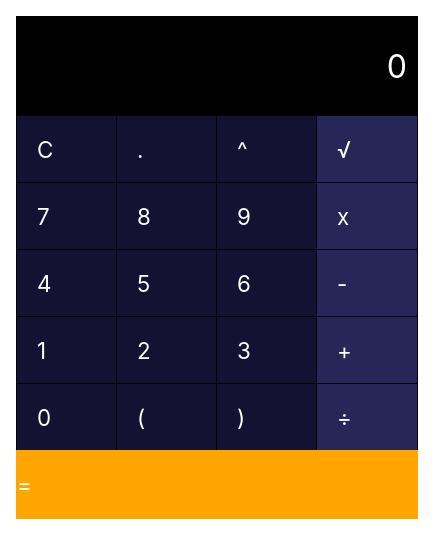
Test: test basic equations & click events
Click the text "9".
click(267, 216)  # box [217,183,317,250]
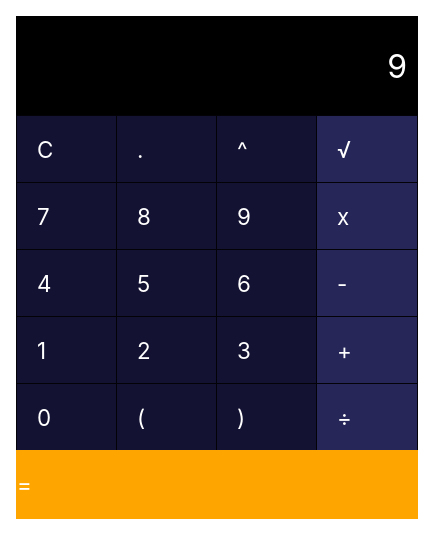
Click the text "+".
click(367, 350)  # box [317,317,417,384]
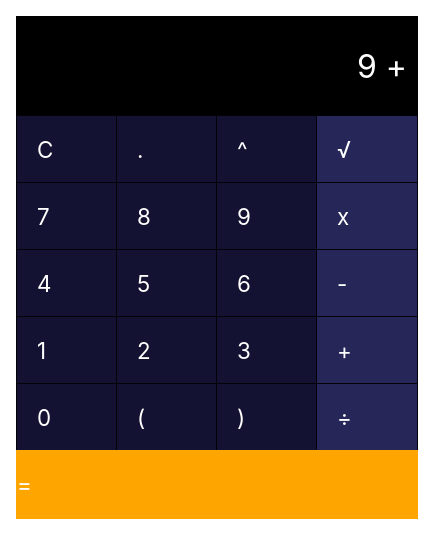
Click the text "9".
click(267, 216)  # box [217,183,317,250]
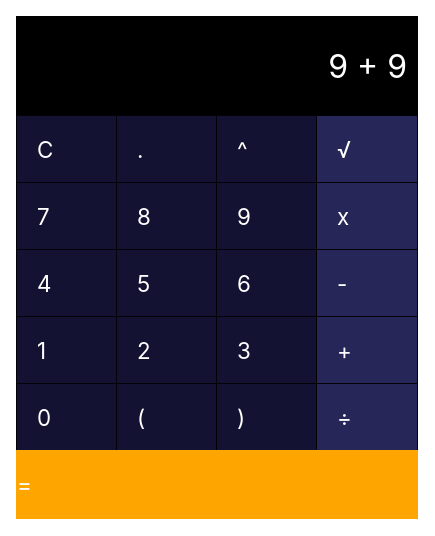
Click the text "=".
click(217, 484)  # box [17,451,417,518]
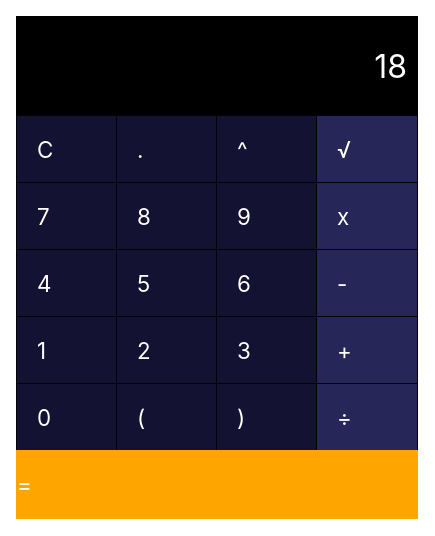
Expected: the text with test id "input-val" reads "18", [374,47,407,86]
